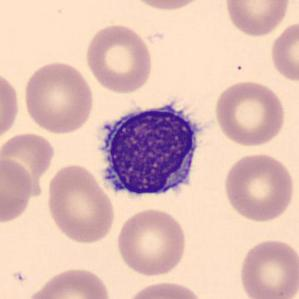Lymphocyte: (90, 93, 207, 207)
RBC: (44, 160, 116, 246), (21, 59, 96, 135), (221, 151, 296, 224), (114, 206, 189, 278), (83, 21, 154, 96), (212, 79, 287, 148), (0, 130, 57, 202), (237, 236, 298, 299), (24, 265, 112, 299), (222, 0, 292, 38), (0, 154, 35, 226), (268, 19, 298, 83), (122, 279, 205, 299), (0, 66, 21, 145), (127, 0, 207, 13)
